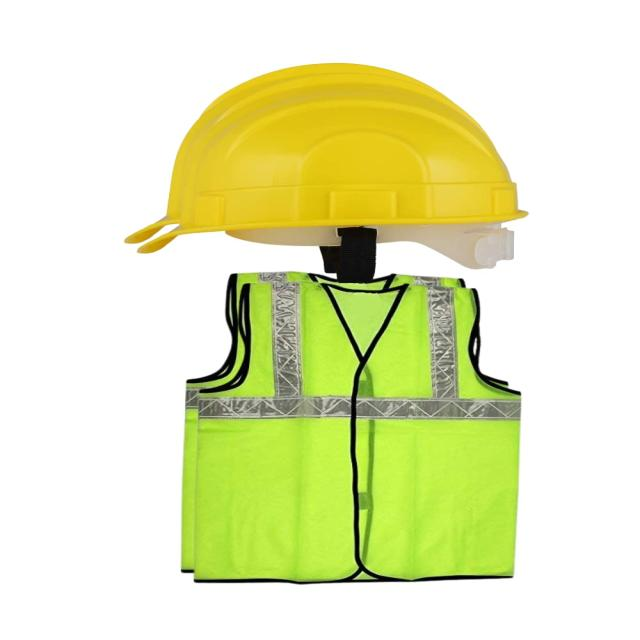helmet: (110, 30, 559, 274)
vest: (173, 256, 556, 597)
